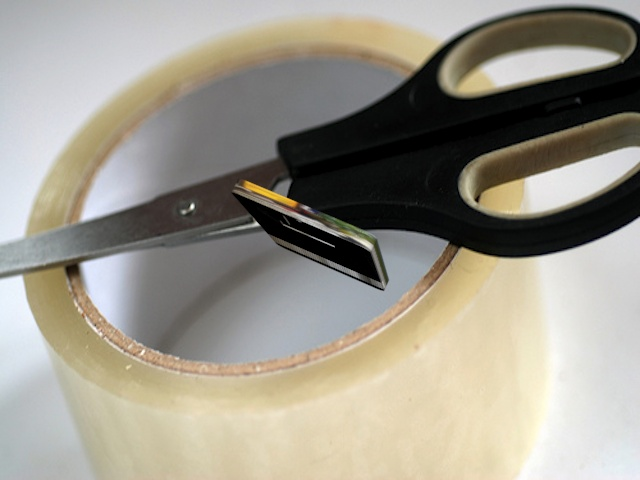calculator: (224, 176, 400, 296)
